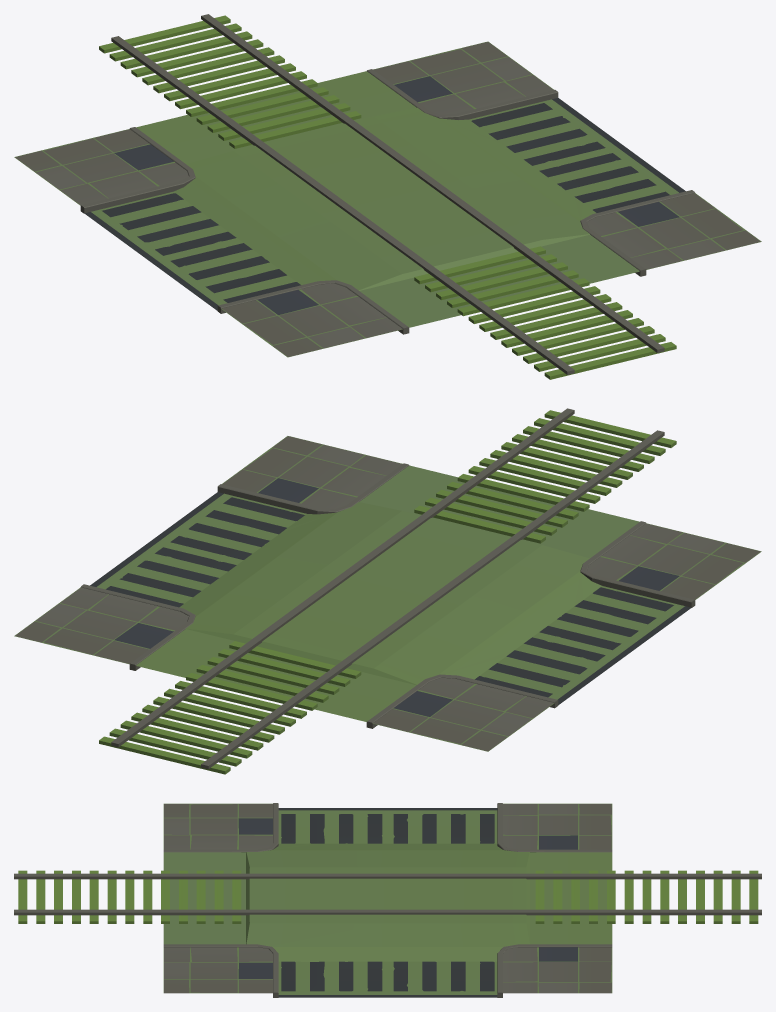
File: Road_47.fbx
The picture shows the model from 3 angles, top to bottom: view 1: azimuth 30°, elevation 25°; view 2: azimuth 150°, elevation 25°; view 3: azimuth 270°, elevation 25°; orthographic projection. The views are drawn at different scales.
Visible parts, largest first — view 1: Road_47; view 2: Road_47; view 3: Road_47.
Part boxes in pixels (x1,y1,x2,y2): Road_47: (14, 14, 761, 379); Road_47: (14, 408, 761, 774); Road_47: (14, 803, 761, 997).
Bounding box in the file's own units: 12 × 0.2892 × 20.
